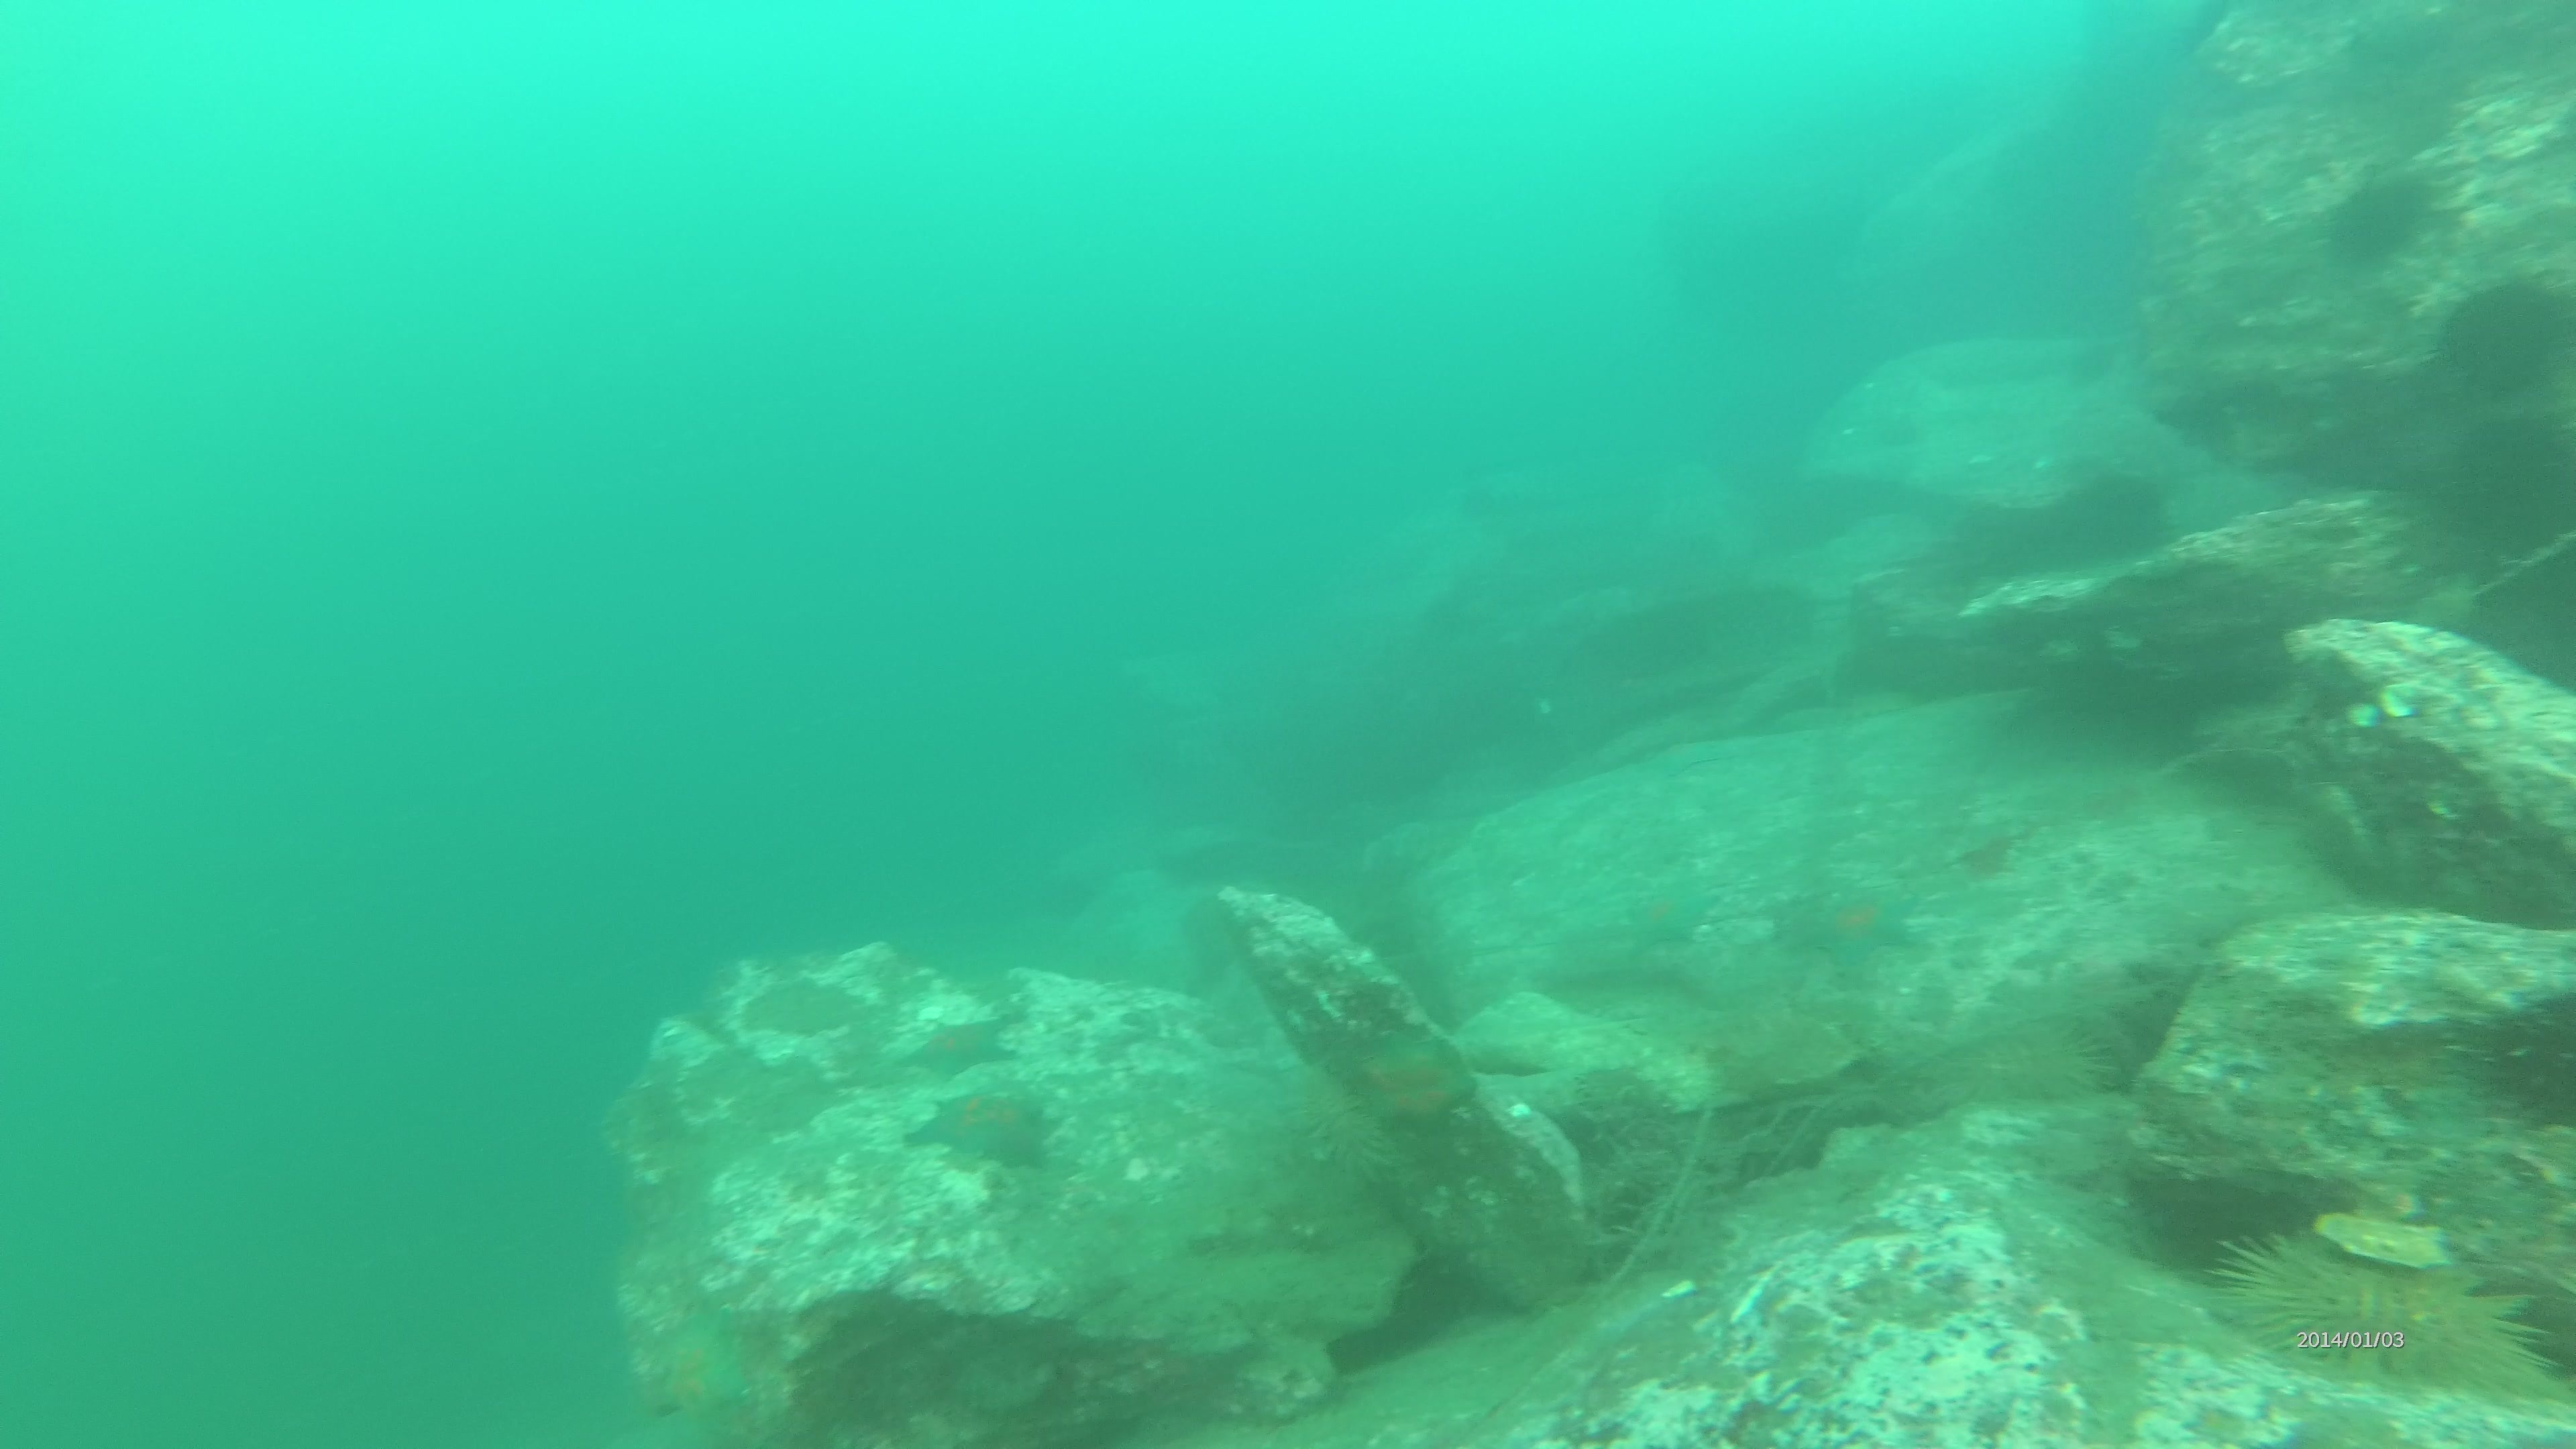echinus: (2213, 1208, 2555, 1403), (1936, 1010, 2107, 1131), (2433, 267, 2572, 405), (2463, 980, 2576, 1131), (1288, 1058, 1401, 1185), (2318, 161, 2442, 274)
starfish: (630, 1300, 763, 1435), (1348, 1019, 1479, 1139), (1780, 872, 1925, 975), (908, 1081, 1062, 1177), (885, 1008, 1019, 1085), (1617, 867, 1721, 954)
